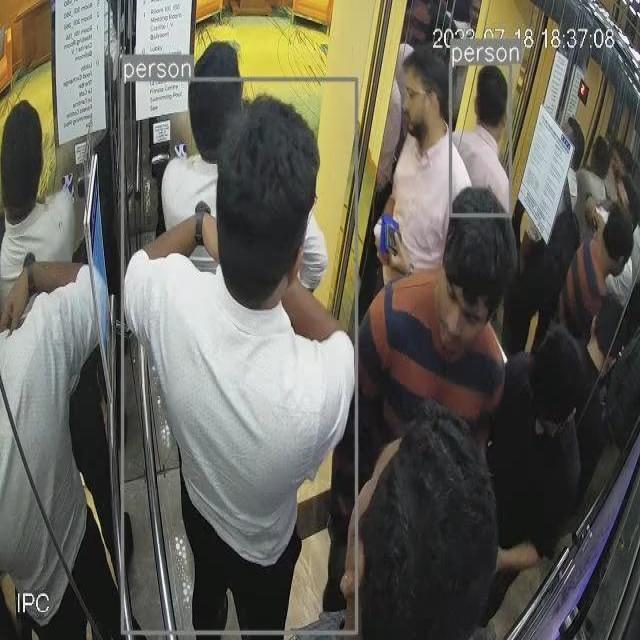person: (126, 80, 359, 632), (264, 417, 536, 640), (150, 21, 336, 292), (359, 187, 560, 430), (0, 236, 120, 640), (500, 328, 604, 639), (370, 58, 484, 270)
